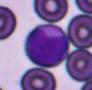L: (25, 24, 70, 67)
